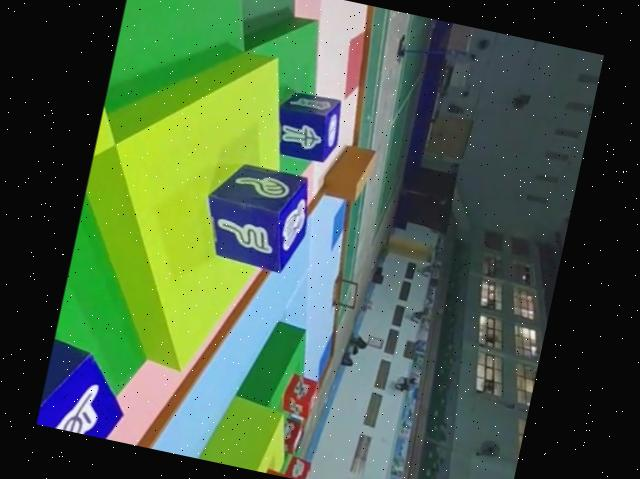R2 Fake Blue: (193, 154, 316, 275), (36, 336, 135, 441), (268, 87, 347, 166)
